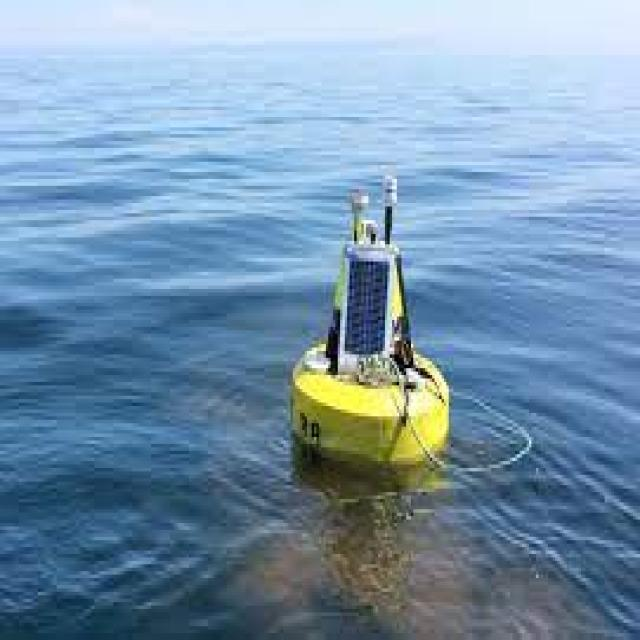2.5 sepcial mark: (279, 127, 461, 488)
